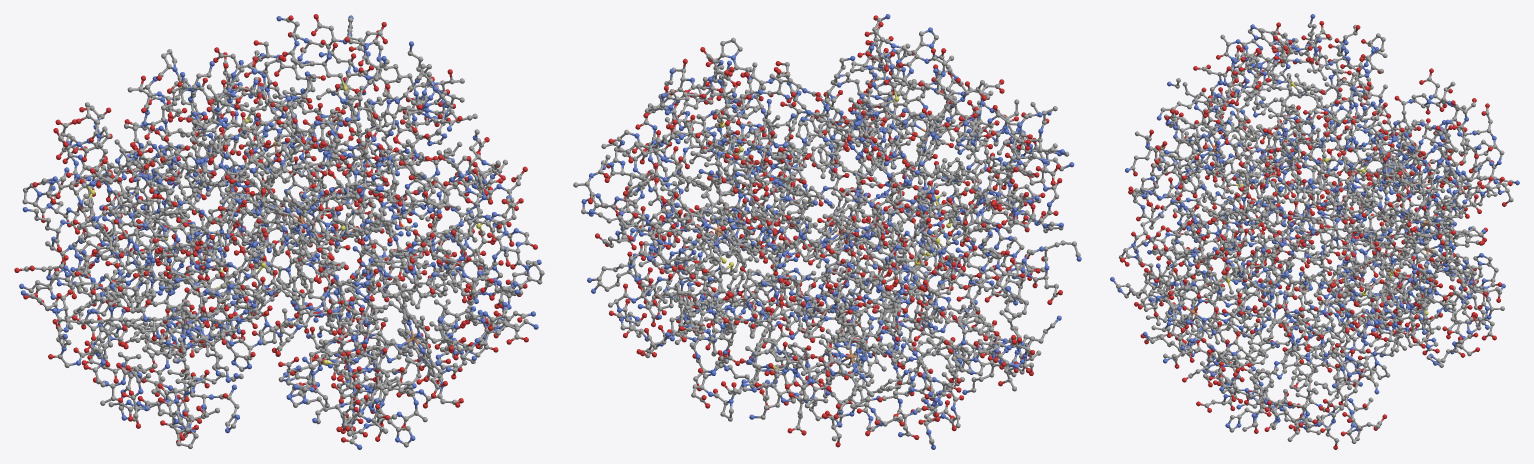
Rendered from hemoglobin-bas.glb.
3 renders of one model, left to right at view 1: azimuth 30°, elevation 25°; view 2: azimuth 150°, elevation 25°; view 3: azimuth 270°, elevation 25°, orthographic. The views are drawn at different scales.
Visible parts, largest first — view 1: hemoglobin-bas; view 2: hemoglobin-bas; view 3: hemoglobin-bas.
Boxes of the visible parts, box(x1,y1,x2,y2) form: hemoglobin-bas: box(14, 14, 544, 449); hemoglobin-bas: box(573, 14, 1081, 449); hemoglobin-bas: box(1110, 14, 1519, 449).
Size of the model in its own units: 65.84 by 57 by 58.82.
